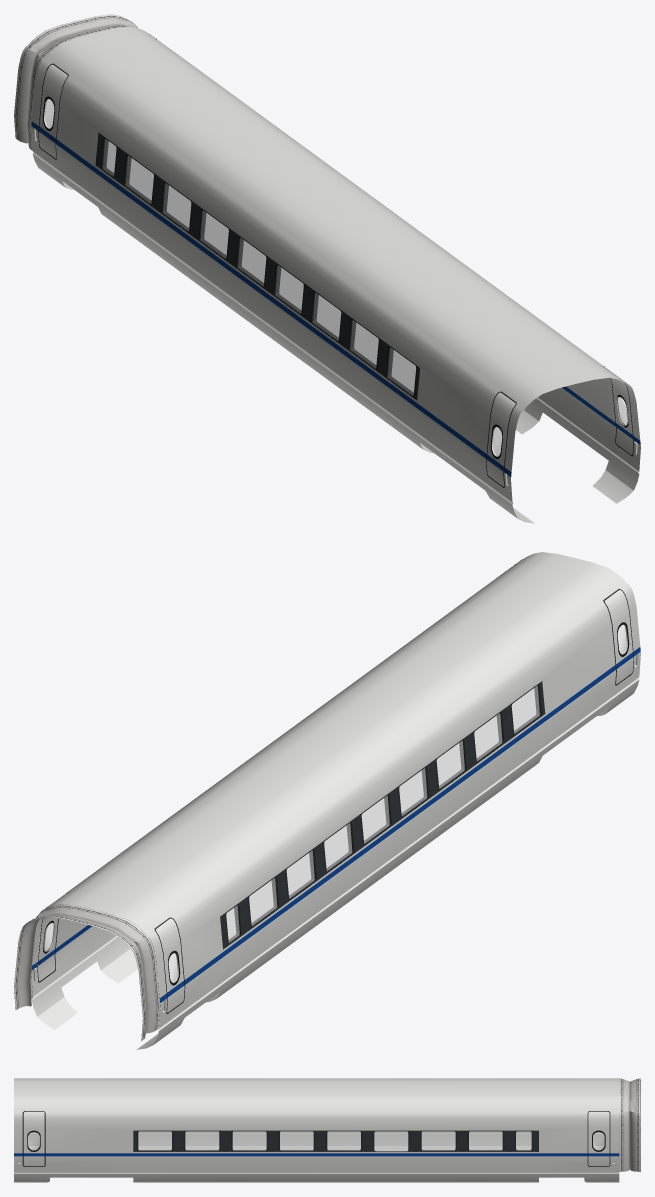
The picture shows the model from 3 angles, top to bottom: view 1: azimuth 30°, elevation 25°; view 2: azimuth 150°, elevation 25°; view 3: azimuth 270°, elevation 25°; orthographic projection. The views are drawn at different scales.
Visible parts, largest first — view 1: crh3_3hcxwk, crh3_2hcxbl001, crh3_gdwk012; view 2: crh3_3hcxwk, crh3_2hcxbl001, crh3_gdwk012; view 3: crh3_3hcxwk, crh3_2hcxbl001, crh3_gdwk012.
Boxes of the visible parts, bbox=[...] form: crh3_3hcxwk: bbox=[31, 26, 640, 523]; crh3_2hcxbl001: bbox=[103, 139, 415, 395]; crh3_gdwk012: bbox=[14, 14, 137, 150]; crh3_3hcxwk: bbox=[31, 552, 640, 1049]; crh3_2hcxbl001: bbox=[226, 685, 539, 942]; crh3_gdwk012: bbox=[14, 904, 160, 1040]; crh3_3hcxwk: bbox=[14, 1078, 619, 1182]; crh3_2hcxbl001: bbox=[138, 1131, 531, 1151]; crh3_gdwk012: bbox=[619, 1078, 640, 1171].
Size of the model in its own units: 387 by 368 by 2555.
